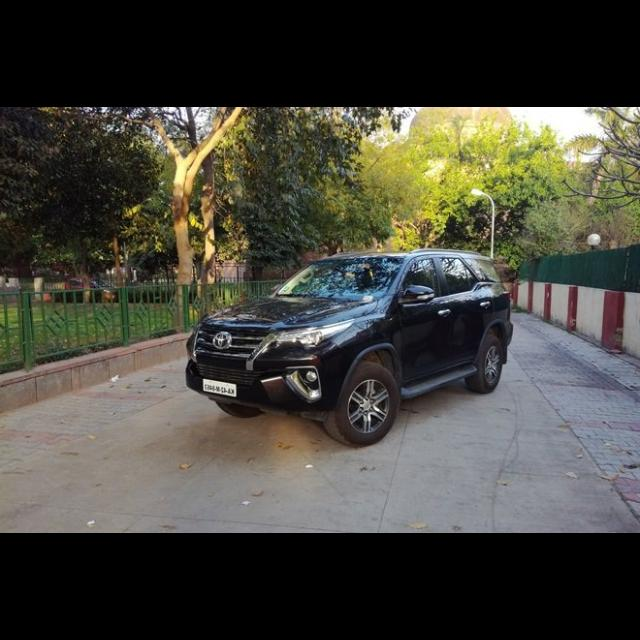vehicles: (176, 245, 514, 445)
